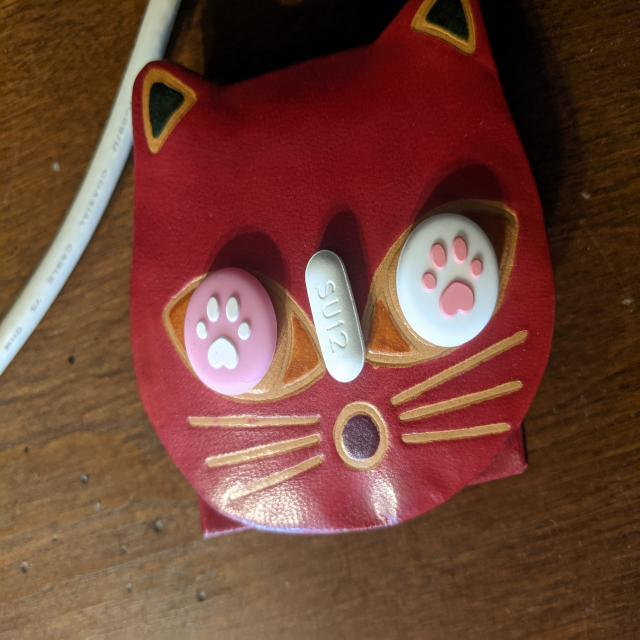non-organic waste: (304, 248, 367, 384)
